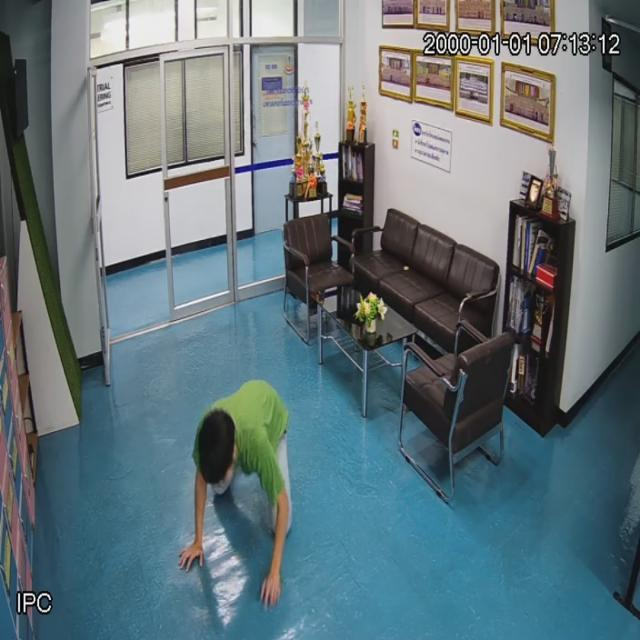fall: (180, 382, 294, 599)
